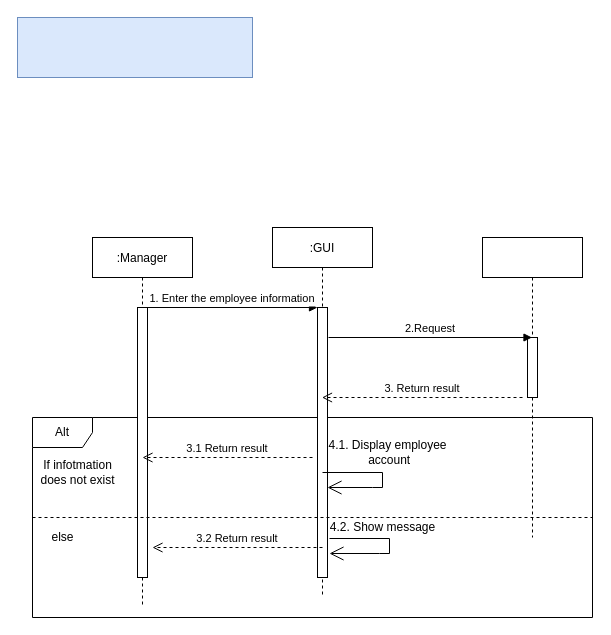
Some shapes in this 611 by 635 pixel diagram are drawn without their labels. Each missing label, with the box of its shape:
:Backend: (482, 236, 582, 538)
Create employee account: (16, 16, 252, 78)
